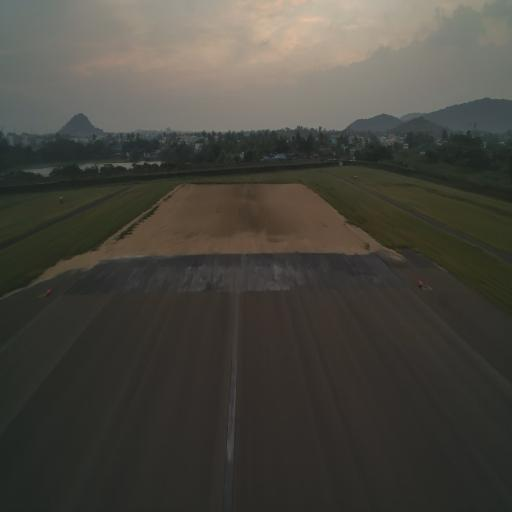on: (417, 275, 424, 292), (45, 286, 51, 297)
